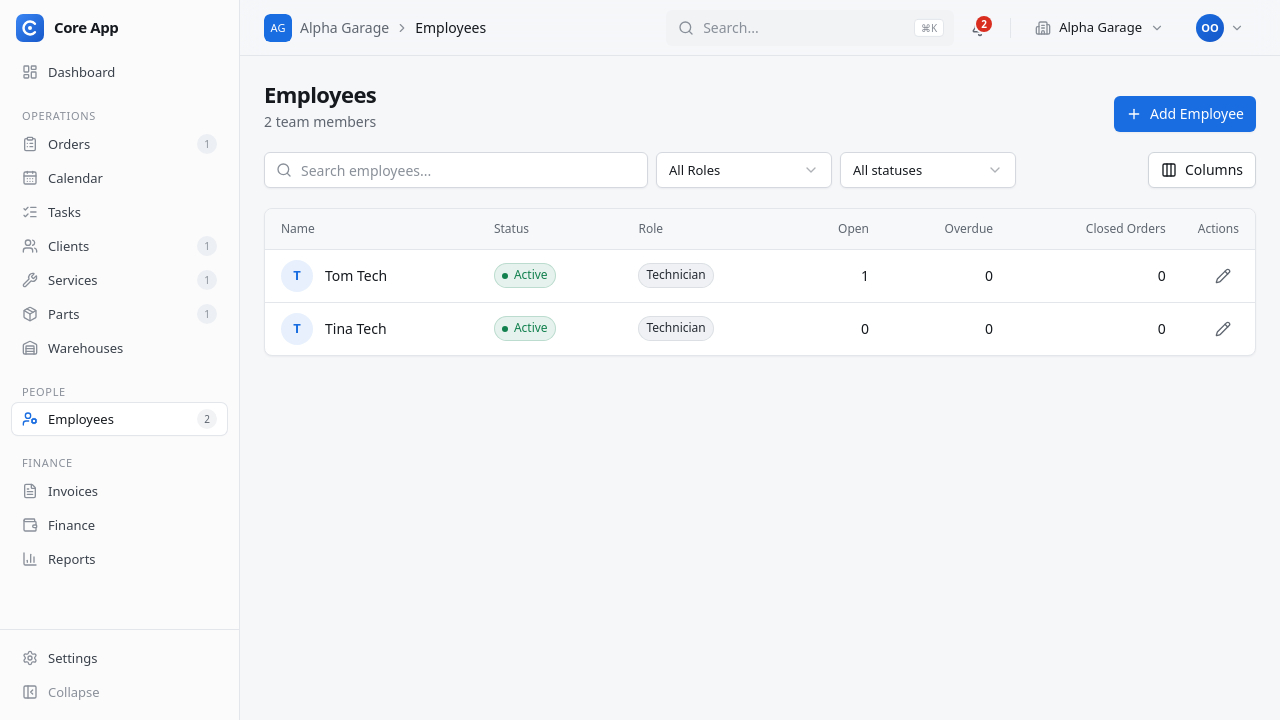
Test: employees page › creates an employee in the active workspace
expect the text "Tom Tech" is shown: met, box [325, 266, 387, 286]
Click the button "Add Employee": point(1185, 114) [1114, 96, 1256, 132]
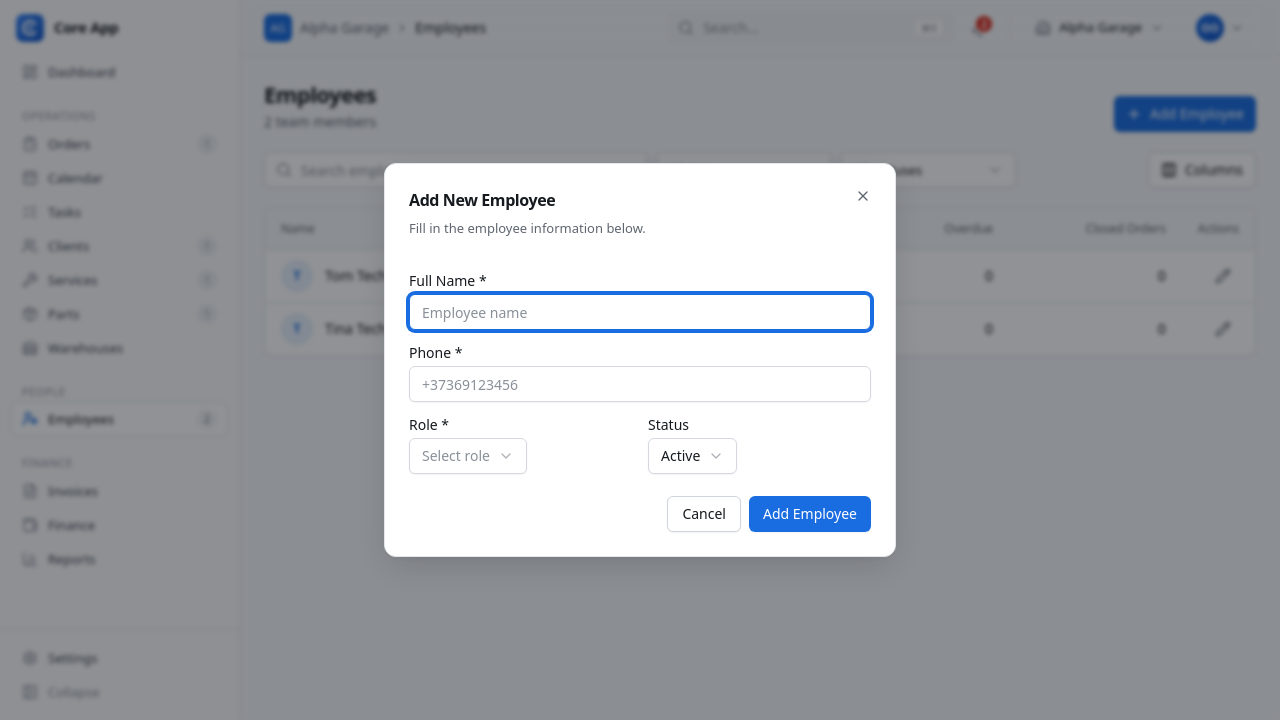
In the field labelled "Full Name *": point(640, 312) [409, 294, 871, 330], type "Eve Electric"
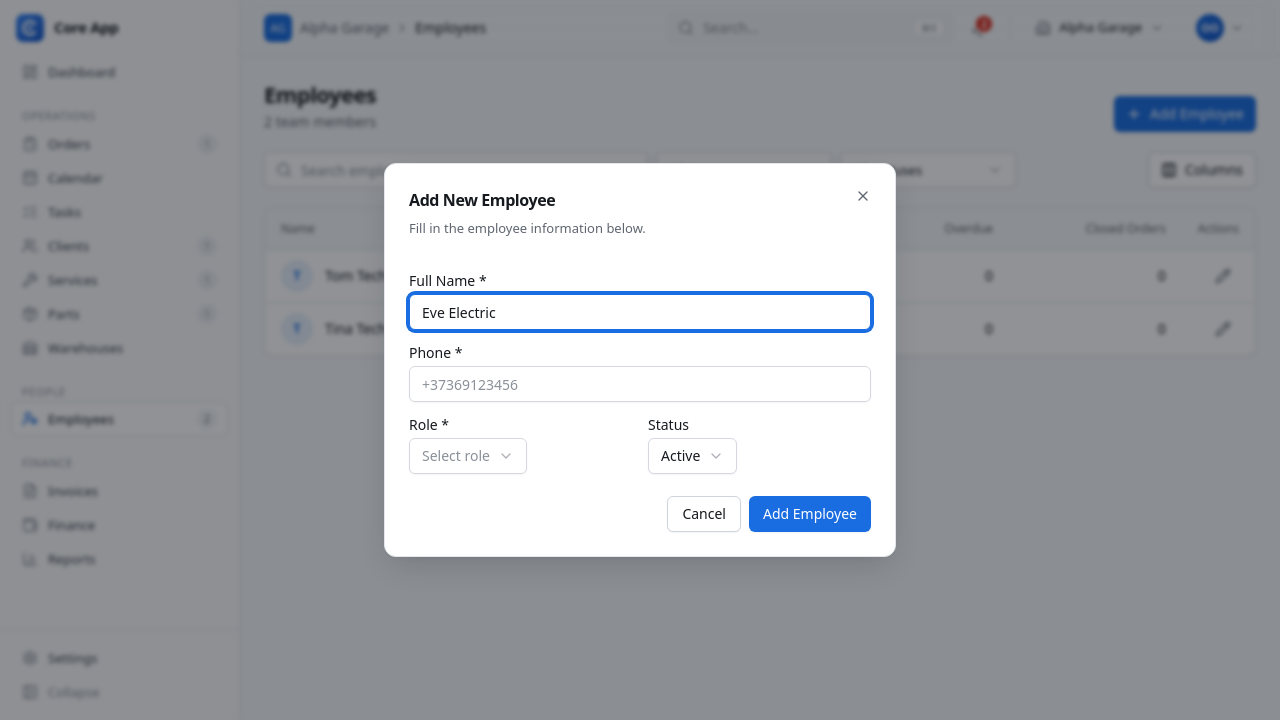
In the field labelled "Phone *": point(640, 384) [409, 366, 871, 402], type "+37369111111"
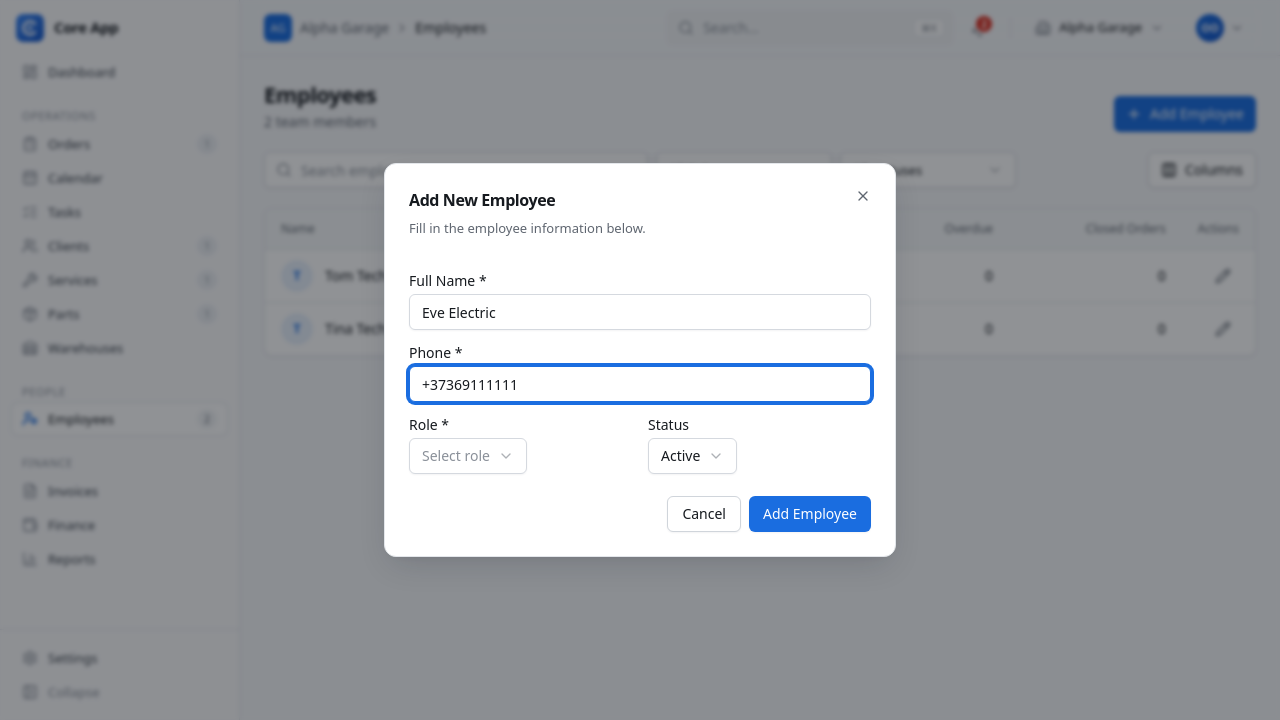
Click the dropdown named "Role *": point(468, 456) [409, 438, 527, 474]
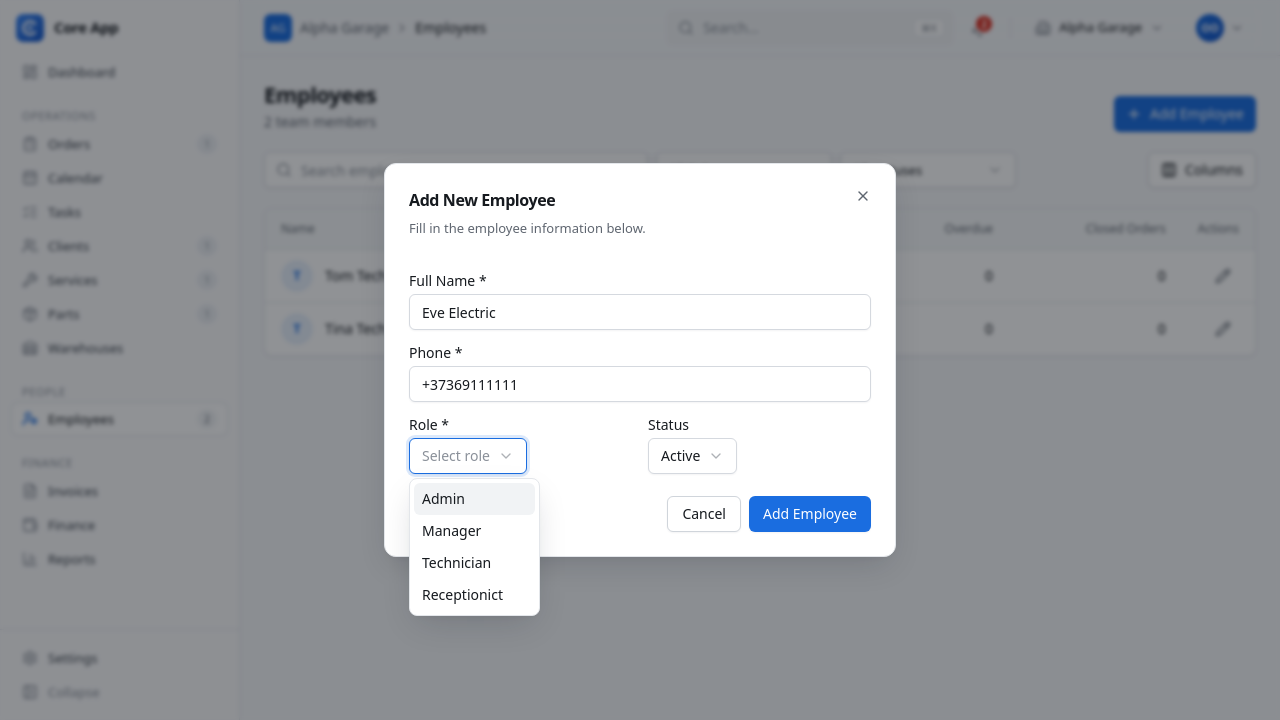
Click the option "Technician": point(457, 562) [422, 553, 491, 572]
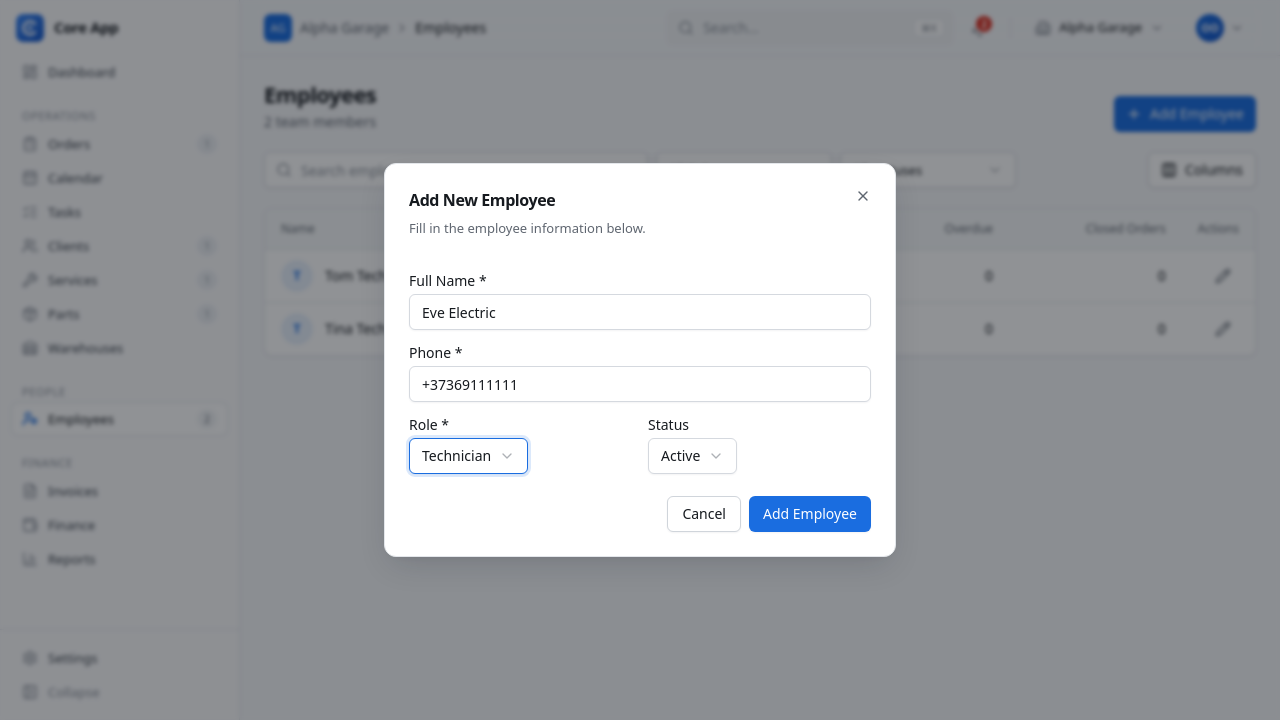
Click the button "Add Employee": point(810, 514) [749, 496, 871, 532]
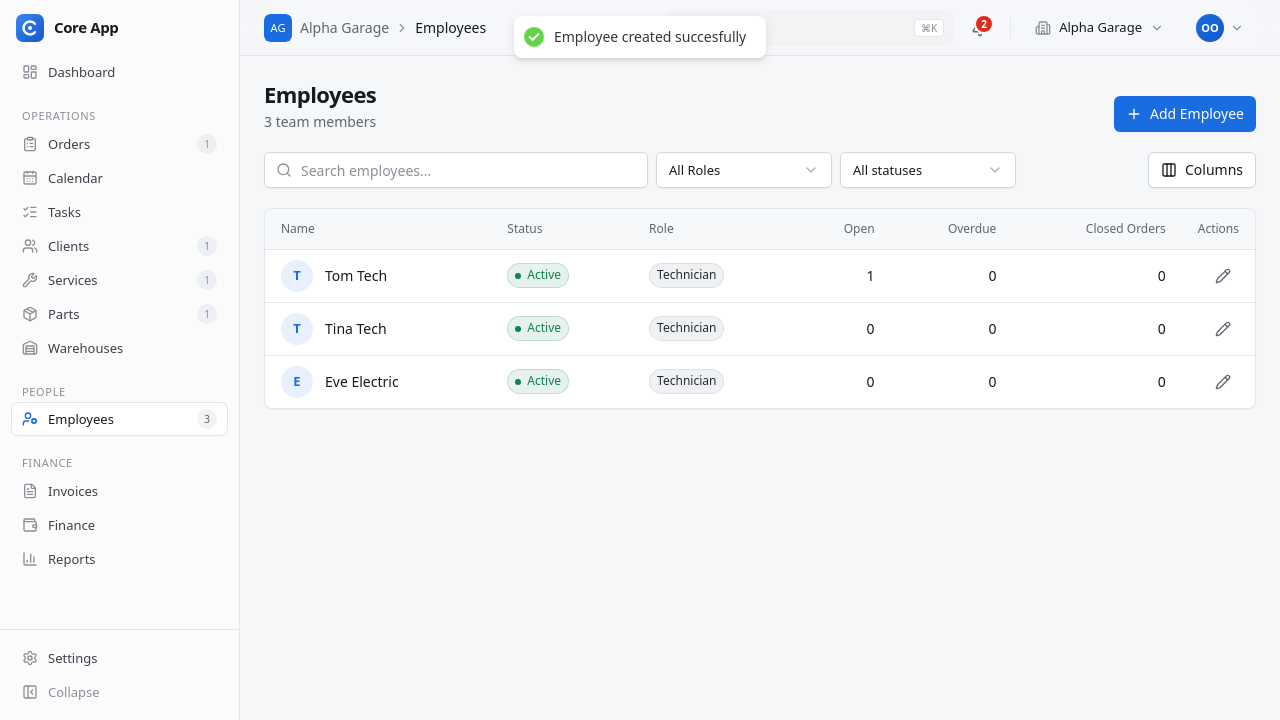
expect the dialog is gone: met
expect the text "Eve Electric" is shown: met, box [325, 372, 399, 392]
